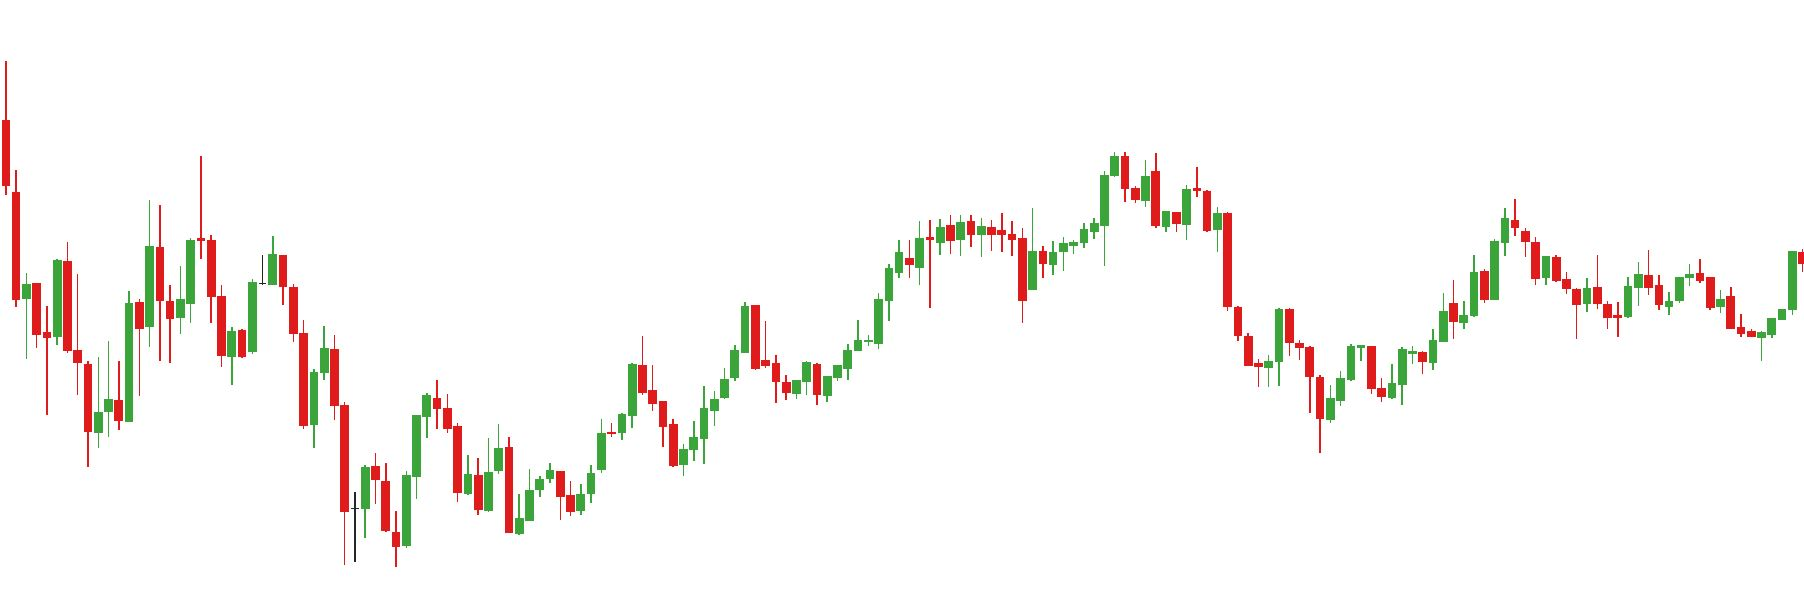buy: (1255, 329, 1346, 450), (607, 384, 698, 479)
sell: (142, 154, 204, 304)
